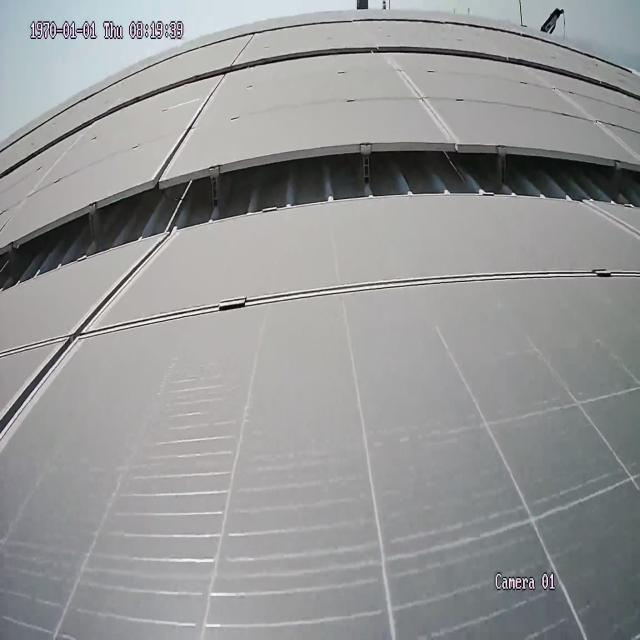interior panel: (542, 84, 639, 156), (151, 81, 225, 161), (380, 61, 457, 135), (581, 207, 640, 241)
outher panel: (1, 141, 639, 293)
